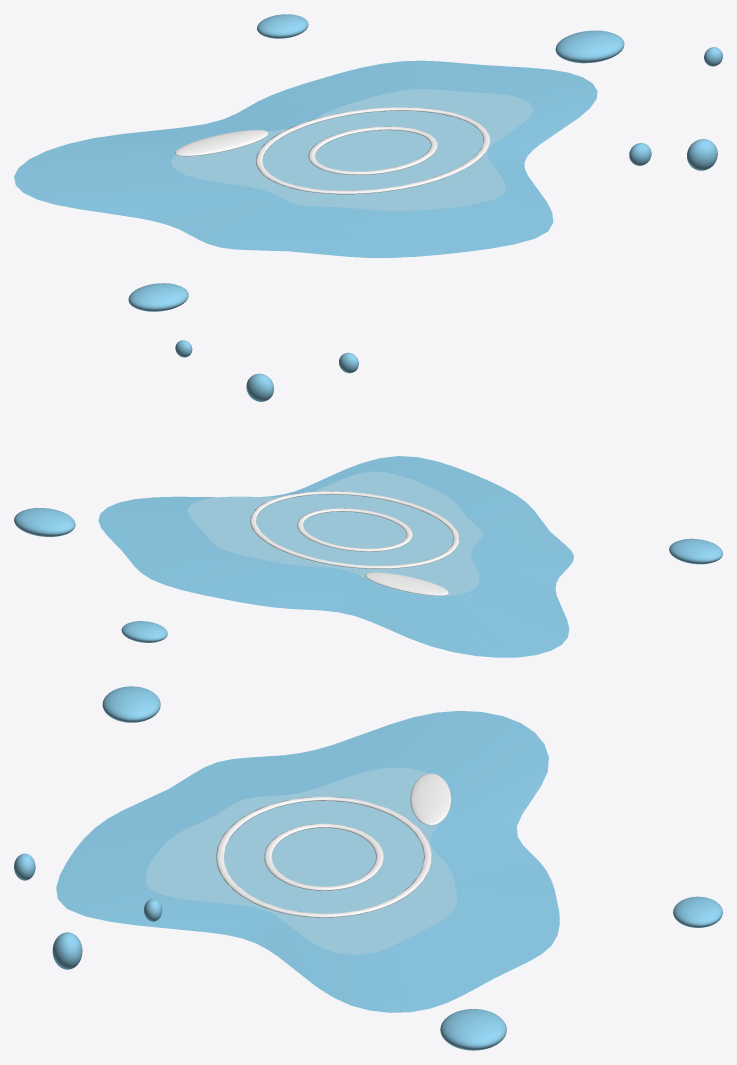
File: charco.glb
3 views of the same model, one above another, from view 1: azimuth 30°, elevation 25°; view 2: azimuth 150°, elevation 25°; view 3: azimuth 270°, elevation 25° (orthographic). The views are drawn at different scales.
Visible parts, largest first — view 1: charco, charco claro, onda 1, gota 0.001, onda 0, gota 1.001, brillo charco, gota 2.001, gota 3.001; view 2: charco, charco claro, onda 1, gota 0.001, onda 0, gota 1.001, brillo charco, gota 2.001, gota 3.001; view 3: charco, charco claro, onda 1, gota 0.001, gota 1.001, onda 0, brillo charco, gota 2.001, gota 3.001.
Part boxes in pixels (box(x1,y1,x2,y2)): charco: box(14, 60, 597, 257); charco claro: box(171, 89, 532, 211); onda 1: box(255, 107, 490, 194); gota 0.001: box(555, 30, 624, 63); onda 0: box(308, 126, 437, 174); gota 1.001: box(128, 283, 188, 311); brillo charco: box(175, 130, 268, 156); gota 2.001: box(257, 14, 308, 38); gota 3.001: box(687, 139, 717, 170); charco: box(98, 456, 573, 657); charco claro: box(187, 471, 482, 596); onda 1: box(250, 491, 459, 568); gota 0.001: box(14, 508, 75, 536); onda 0: box(297, 508, 412, 551); gota 1.001: box(669, 538, 722, 564); brillo charco: box(365, 572, 448, 595); gota 2.001: box(121, 621, 167, 642); gota 3.001: box(246, 373, 273, 401); charco: box(56, 710, 559, 1012); charco claro: box(145, 767, 456, 954); onda 1: box(216, 796, 431, 917); gota 0.001: box(440, 1009, 506, 1050); gota 1.001: box(102, 686, 160, 722); onda 0: box(264, 823, 383, 890); brillo charco: box(410, 773, 451, 825); gota 2.001: box(673, 896, 722, 927); gota 3.001: box(52, 932, 82, 969).
Size of the model in its own units: 0.793 by 0.1364 by 0.6635.
